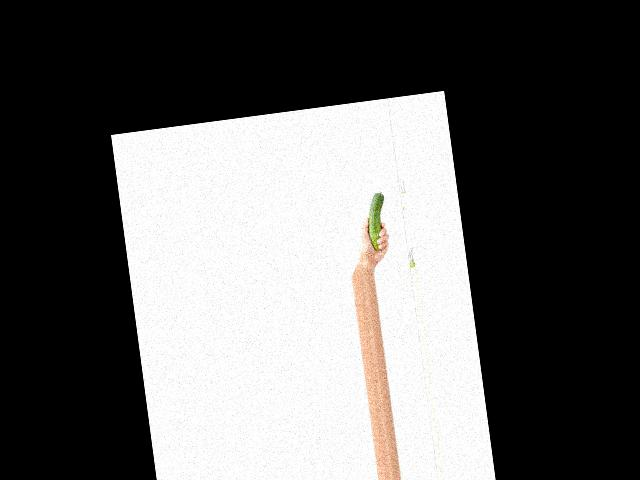cucumber: (364, 191, 391, 251)
